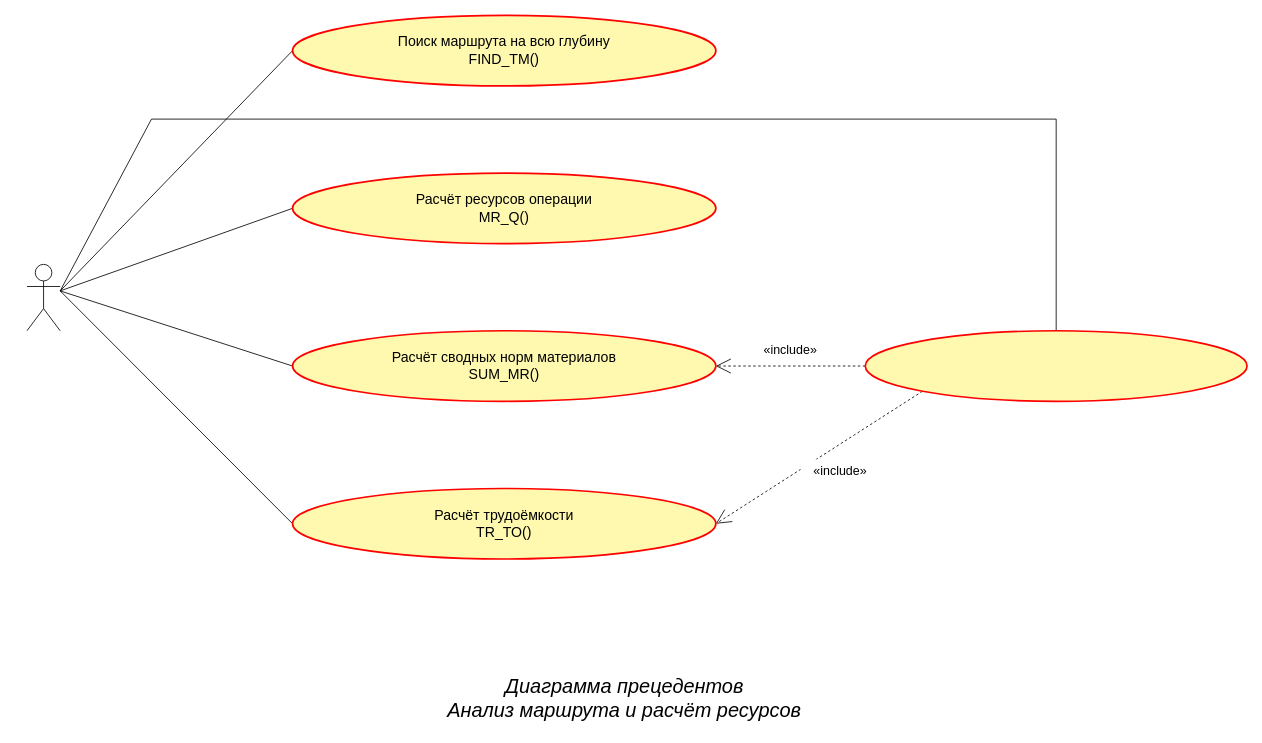
The diagram is 1262 pixels wide and 743 high, and some of its shapes have lost their labels. Each missing label, with the centre of its shape:
"Калькуляция себестоимости" goes at [1055,366].
"Технолог" goes at [43,297].
